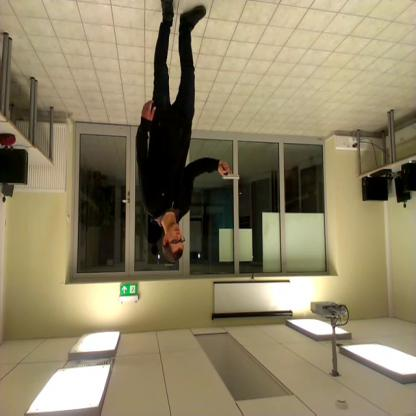Pistol: (209, 155, 250, 188)
